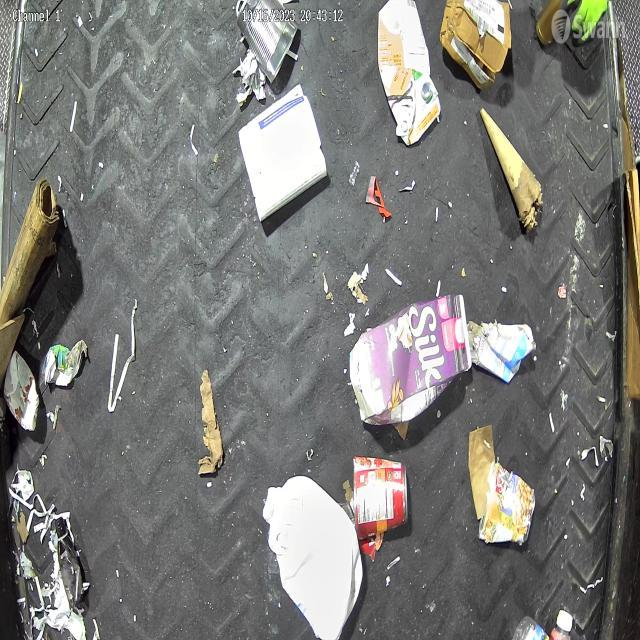can: (236, 0, 300, 84), (352, 454, 409, 540), (478, 460, 536, 544)
milk_jug: (262, 474, 364, 640)
non_white_jug: (350, 294, 472, 429)
